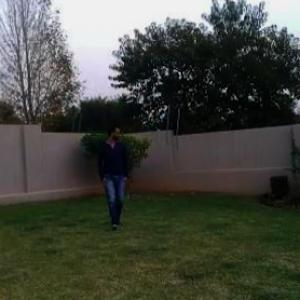follow: (98, 120, 131, 231)
